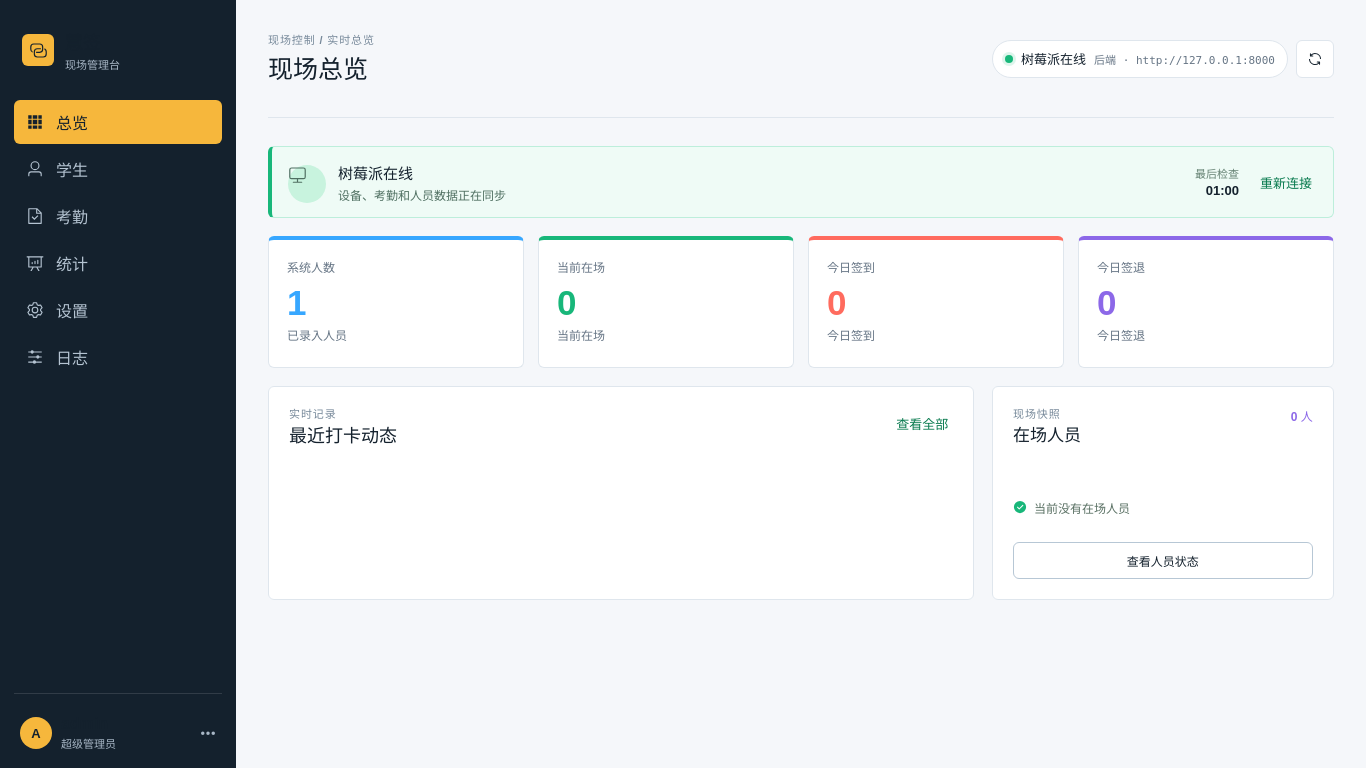
Test: HuiQian admin dashboard › loads connection state and students through the local web service after session recovery
Click the button with class "nav-item" showing "学生". click: (118, 169)
box: [14,147,222,191]
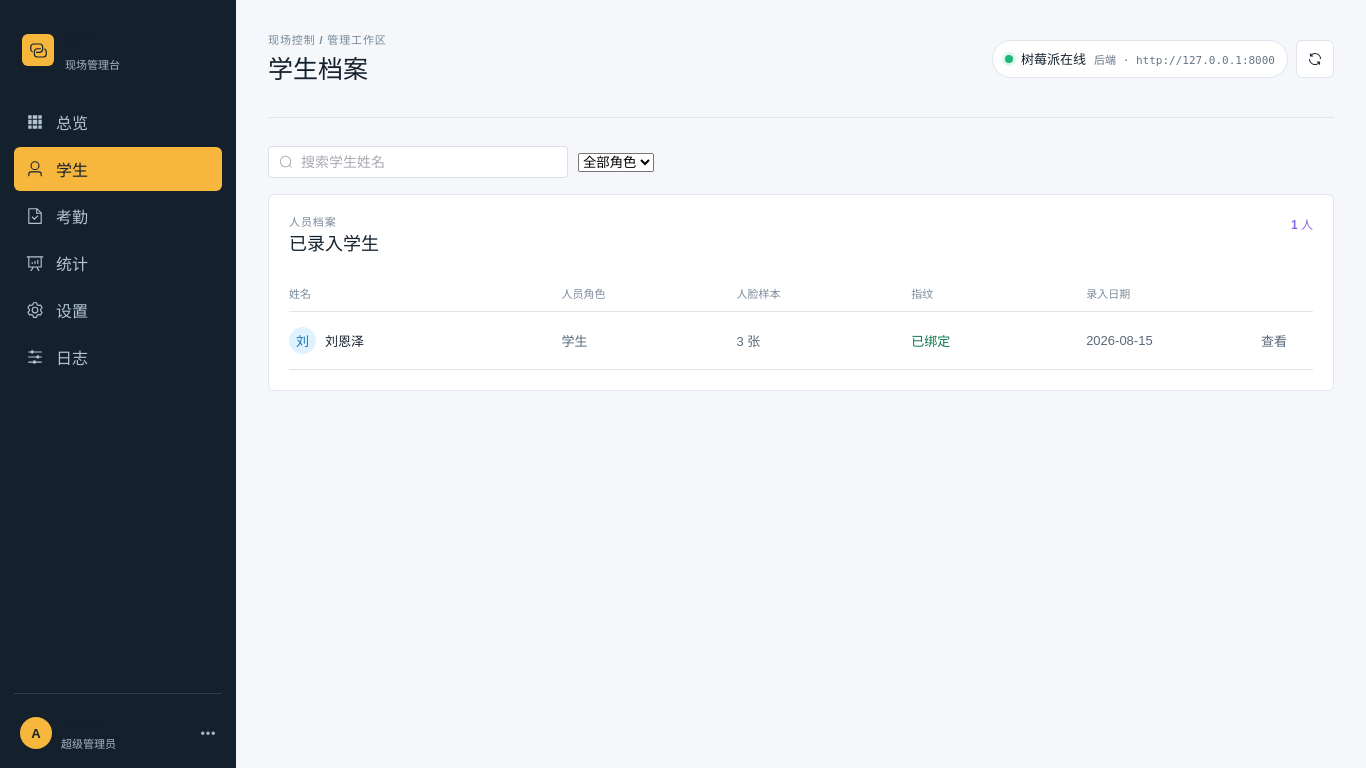
Result: the text "刘恩泽" is shown at [325,334,364,349]
Result: the text "2026-08-15" is shown at [1086,333,1153,348]
